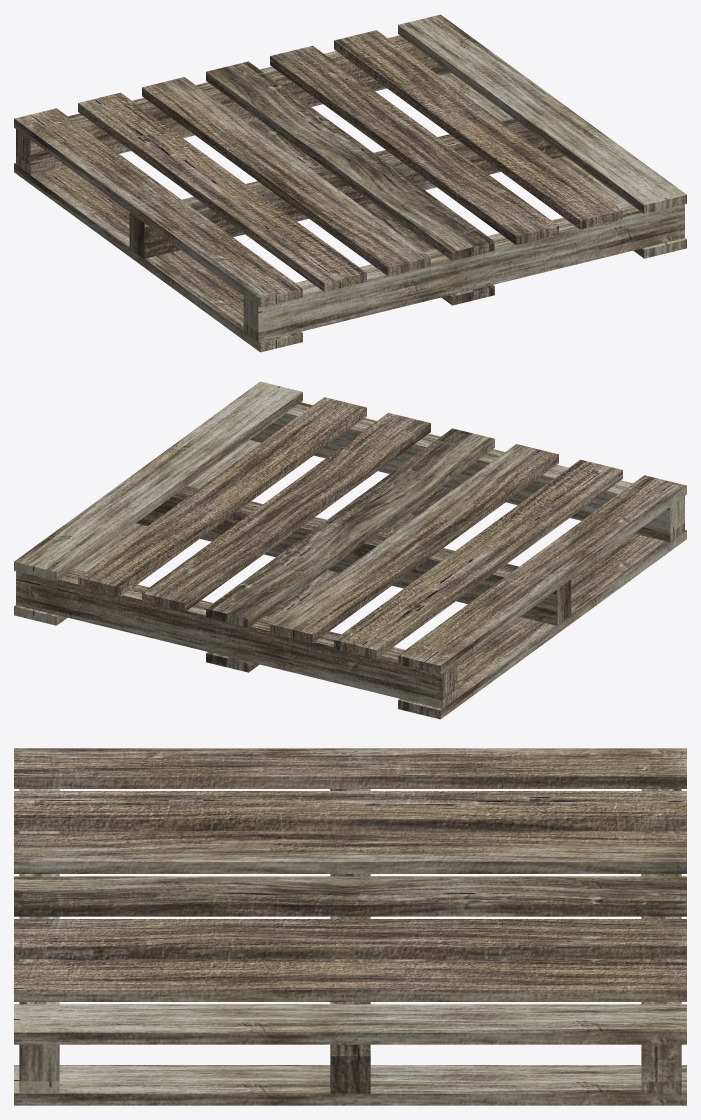
The picture shows the model from 3 angles, top to bottom: view 1: azimuth 30°, elevation 25°; view 2: azimuth 150°, elevation 25°; view 3: azimuth 270°, elevation 25°; orthographic projection. The views are drawn at different scales.
Parts seen in each view (by area): view 1: Pallet (×7); view 2: Pallet (×7); view 3: Pallet (×7).
Boxes of the visible parts, x1,y1,x2,y2 form: Pallet (×7): [14, 14, 686, 352]; Pallet (×7): [14, 381, 686, 719]; Pallet (×7): [14, 748, 686, 1105].
Size of the model in its own units: 49.21 by 49.21 by 5.91.
1 material, 1 textured.
